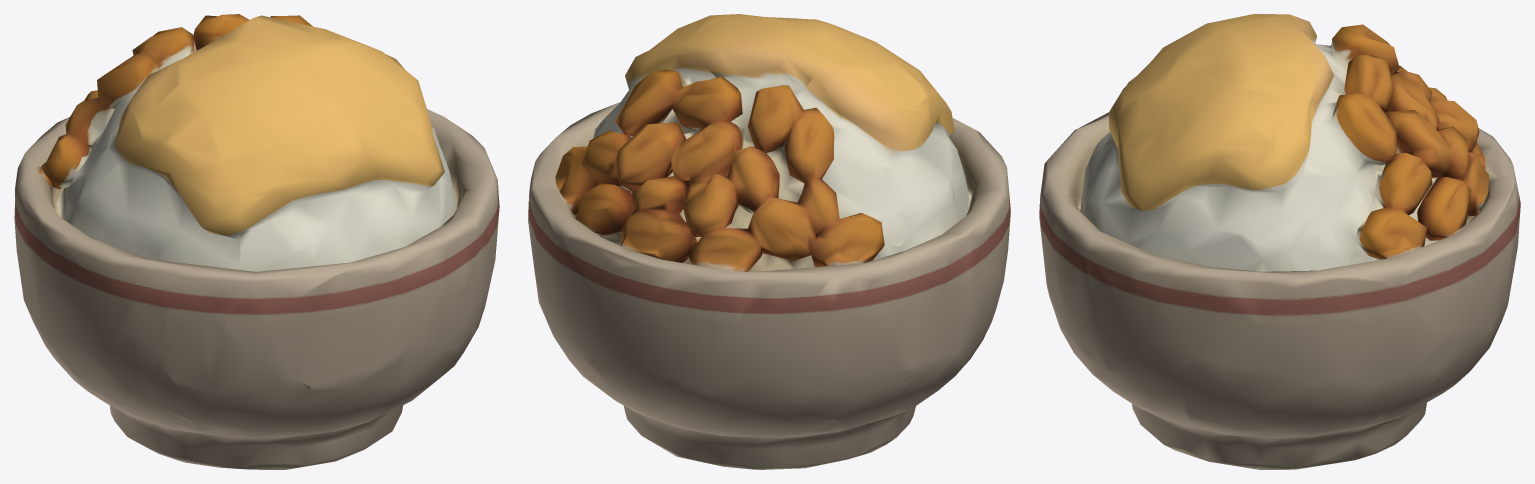
Rendered from TW_사물_s3_food_tier3_peanut_douhua.glb.
3 renders of one model, left to right at view 1: azimuth 30°, elevation 25°; view 2: azimuth 150°, elevation 25°; view 3: azimuth 270°, elevation 25°, orthographic.
Visible parts, largest first — view 1: tripo_node_be0f9653-7f46-4e8d-87d6-c4ca6e9b9fa8; view 2: tripo_node_be0f9653-7f46-4e8d-87d6-c4ca6e9b9fa8; view 3: tripo_node_be0f9653-7f46-4e8d-87d6-c4ca6e9b9fa8.
Boxes of the visible parts, x1,y1,x2,y2 form: tripo_node_be0f9653-7f46-4e8d-87d6-c4ca6e9b9fa8: (14, 14, 499, 469); tripo_node_be0f9653-7f46-4e8d-87d6-c4ca6e9b9fa8: (528, 14, 1010, 469); tripo_node_be0f9653-7f46-4e8d-87d6-c4ca6e9b9fa8: (1039, 14, 1520, 469).
Size of the model in its own units: 0.9942 by 0.8675 by 1.
1 material, 1 textured.
